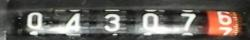digits: (137, 10, 165, 34), (62, 12, 87, 38), (23, 12, 44, 38), (212, 10, 233, 26), (103, 13, 120, 32), (180, 12, 196, 30)
